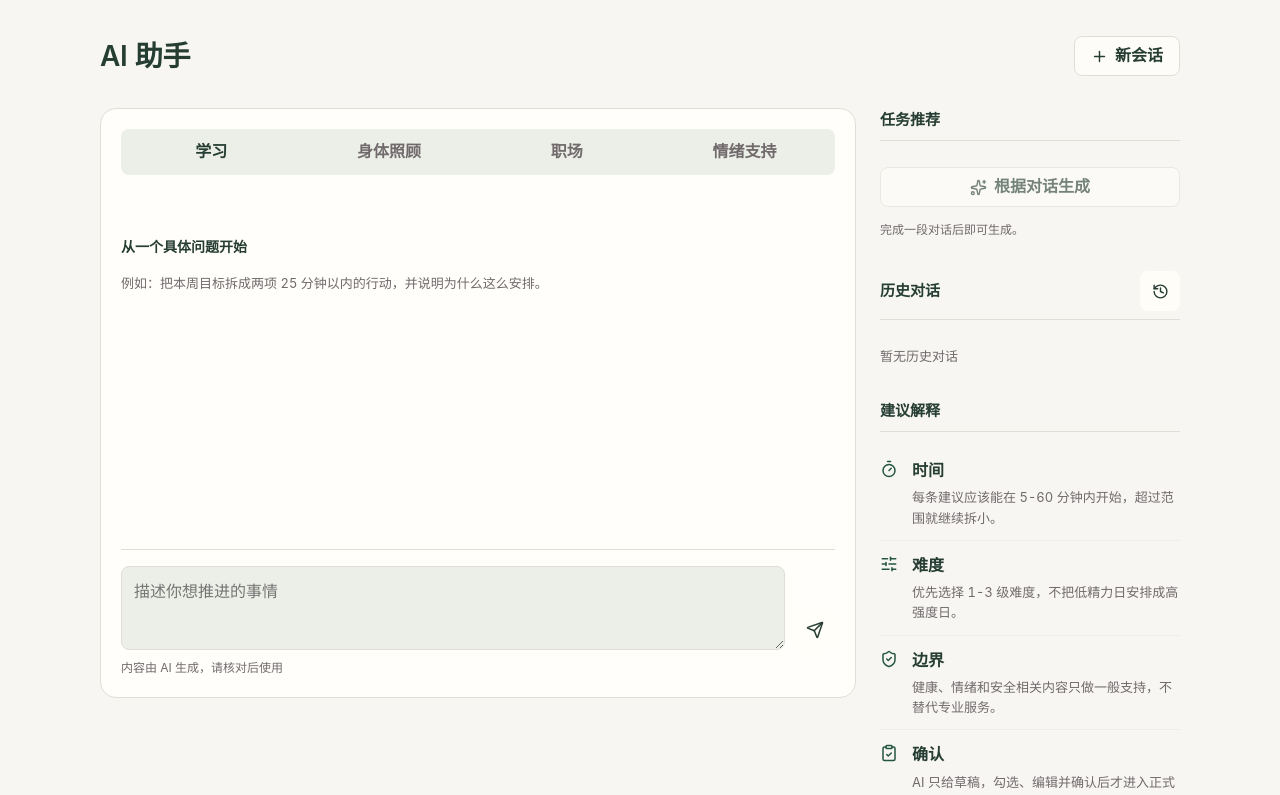
Test: AI safety UI › shows the fallback when session creation fails
This screenshot has width=1280, height=795.
Step 1. Type "帮我拆解目标" into the text box with placeholder "描述你想推进的事情" → (453, 608), box [121, 566, 785, 650]
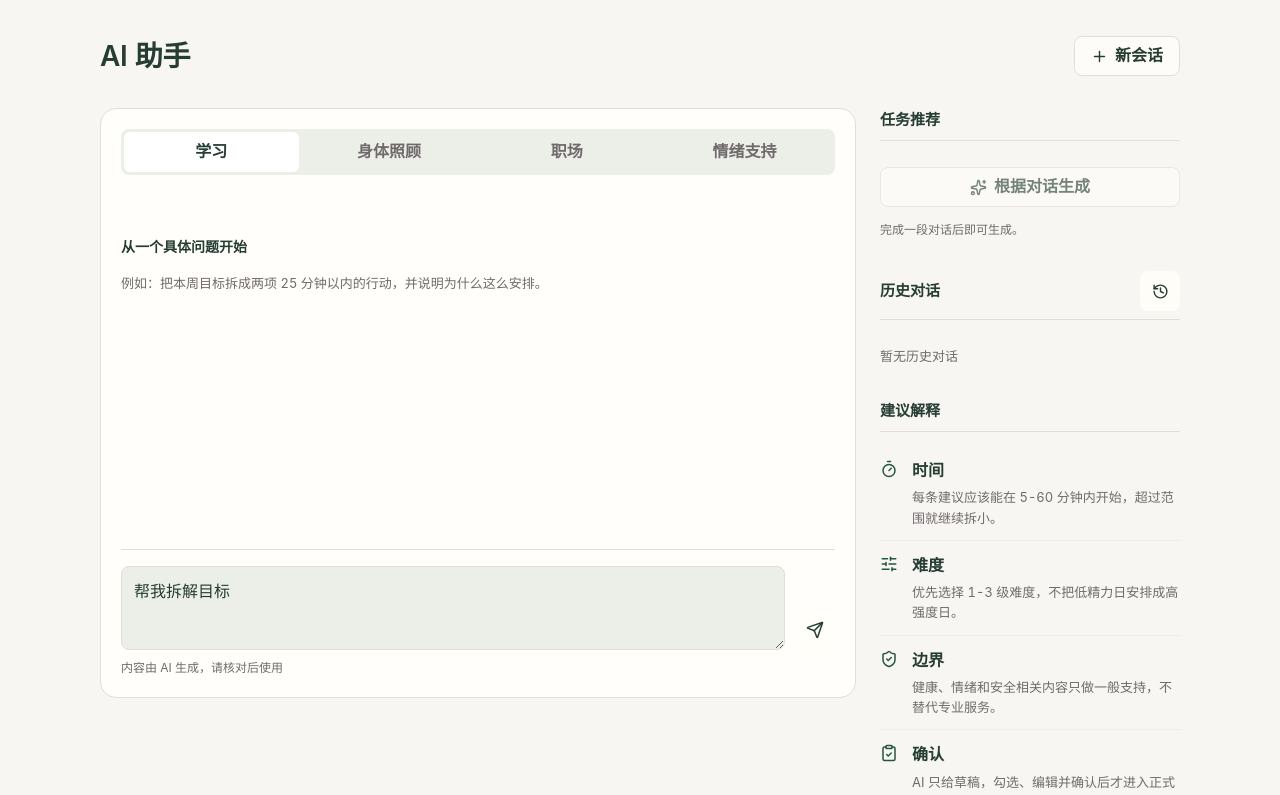
Step 2. Submit the form, box [121, 549, 835, 650]
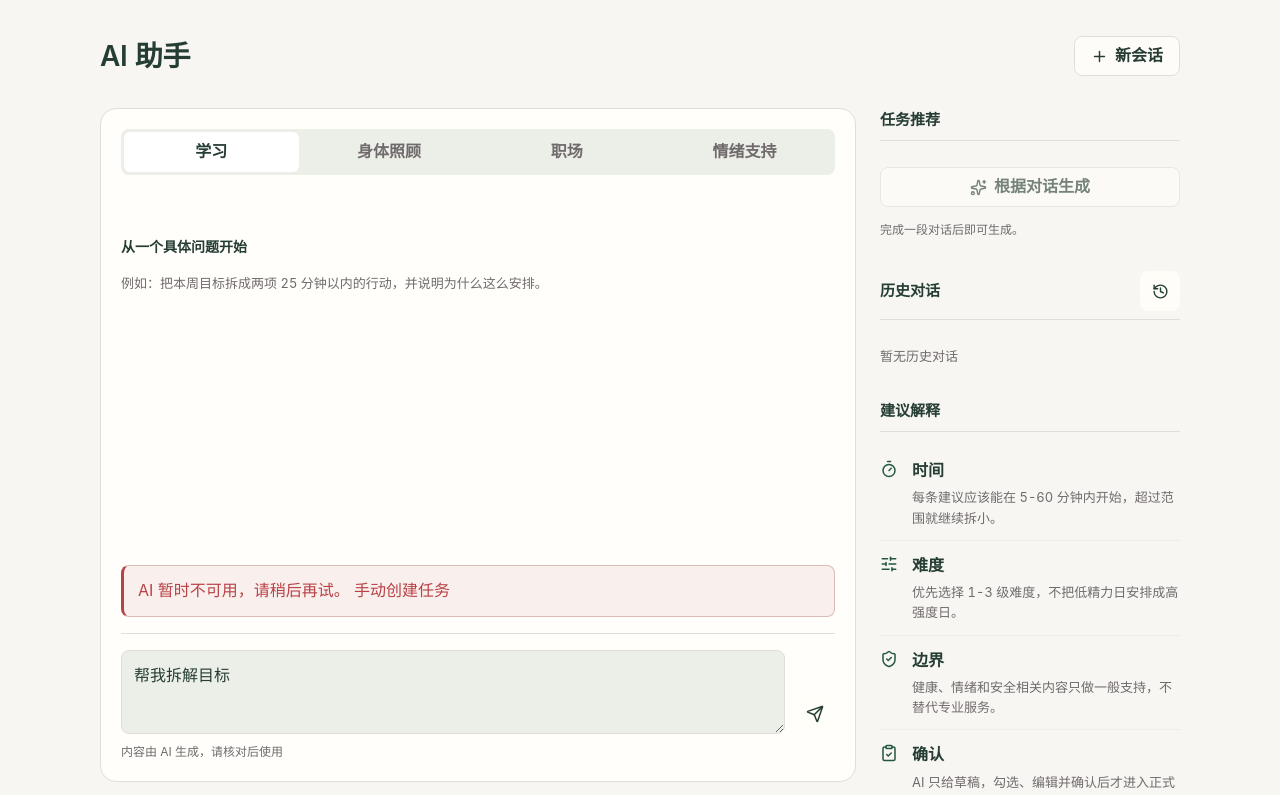
Expected: the button named "发送" is enabled, [795, 694, 835, 734]
Expected: the element with class "error" shows "AI 暂时不可用", [138, 580, 354, 600]
